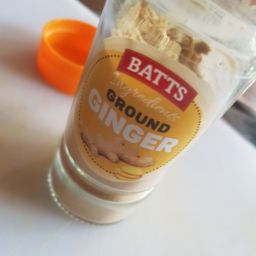Ginger powder: (78, 7, 189, 232), (86, 58, 221, 238)
